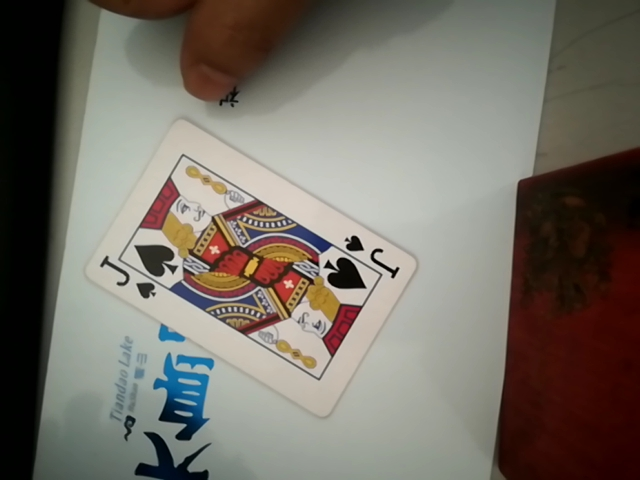ht j: (85, 118, 426, 407)
